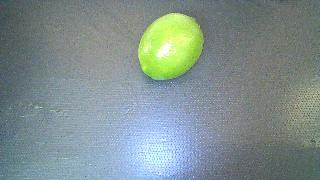EXPORTACION: (138, 13, 204, 80)
